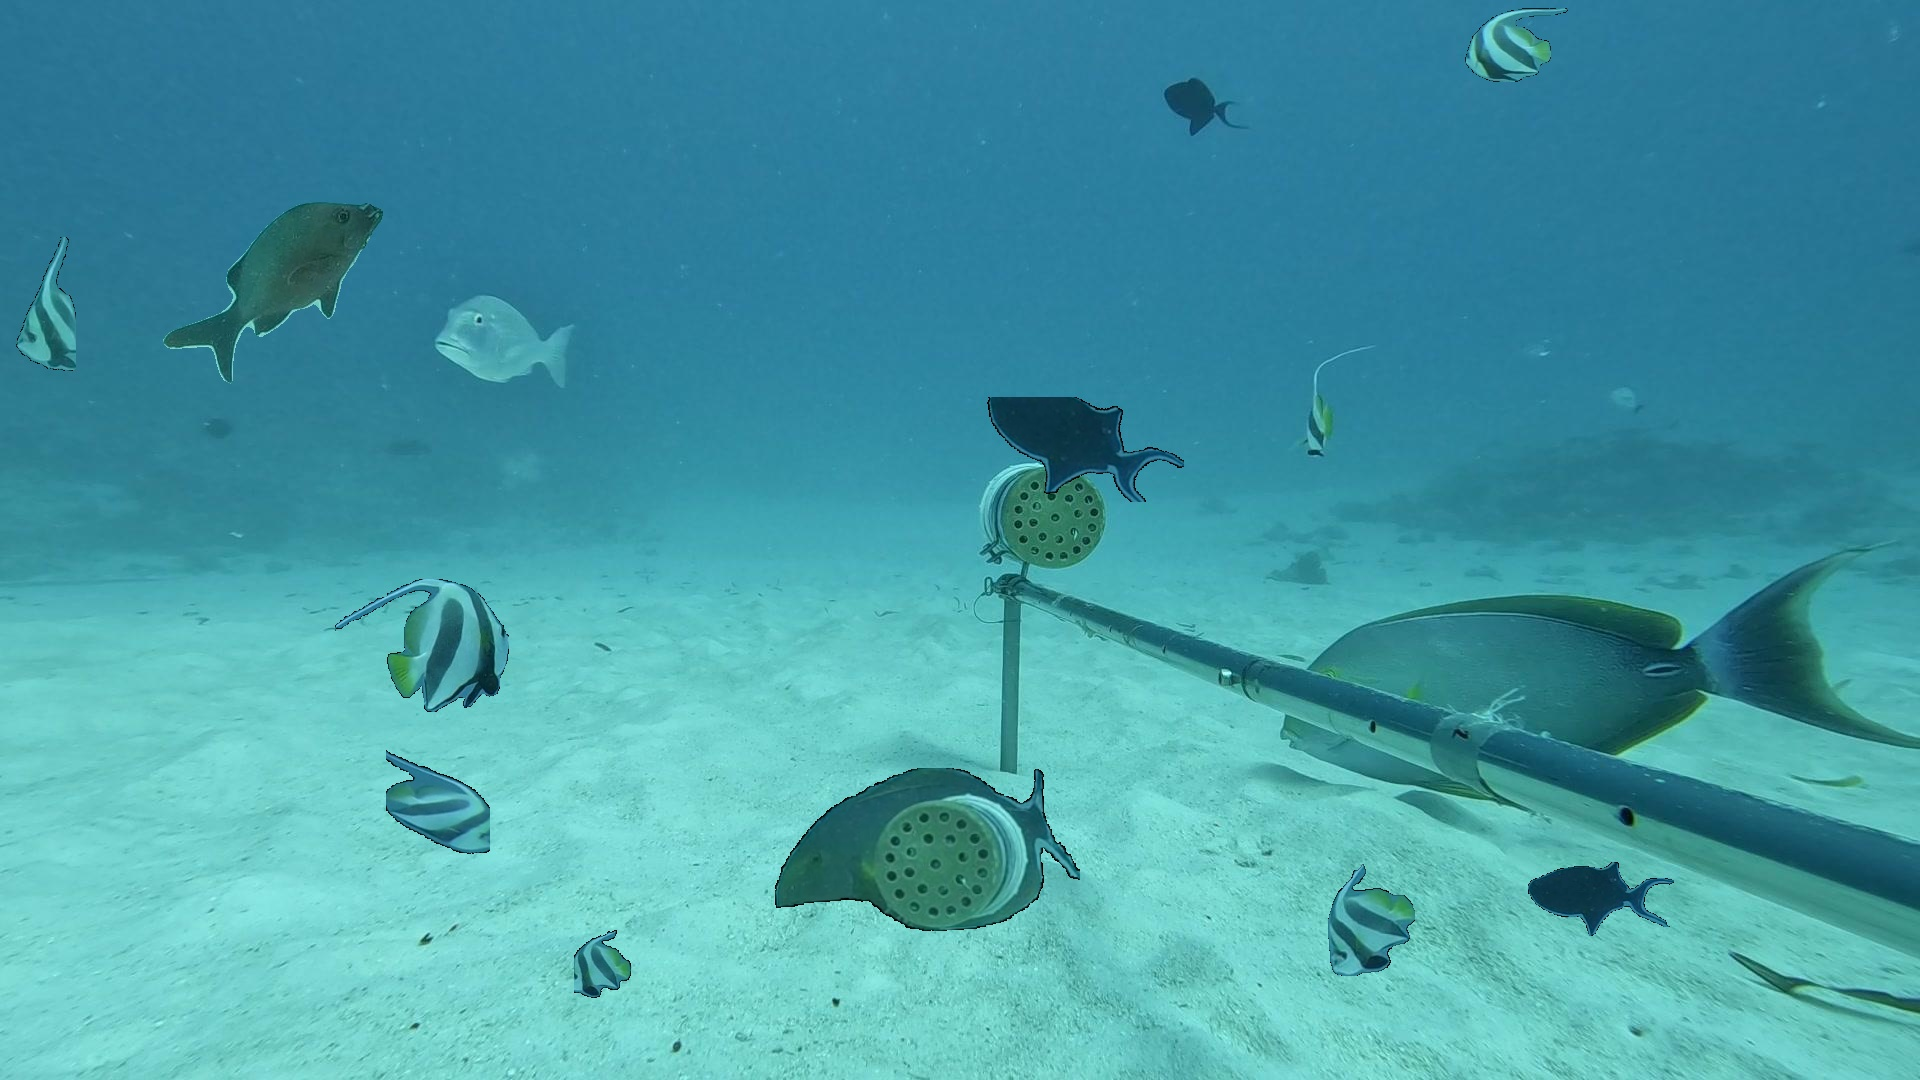fish: (1266, 521, 1904, 803), (773, 767, 1080, 931), (164, 202, 382, 384), (418, 269, 593, 422), (335, 579, 509, 712), (977, 397, 1184, 502), (386, 738, 491, 862), (1295, 330, 1387, 469), (1146, 58, 1257, 160), (1528, 862, 1673, 936), (1328, 864, 1415, 976), (12, 237, 76, 373), (1465, 8, 1568, 82), (574, 928, 632, 1002)
